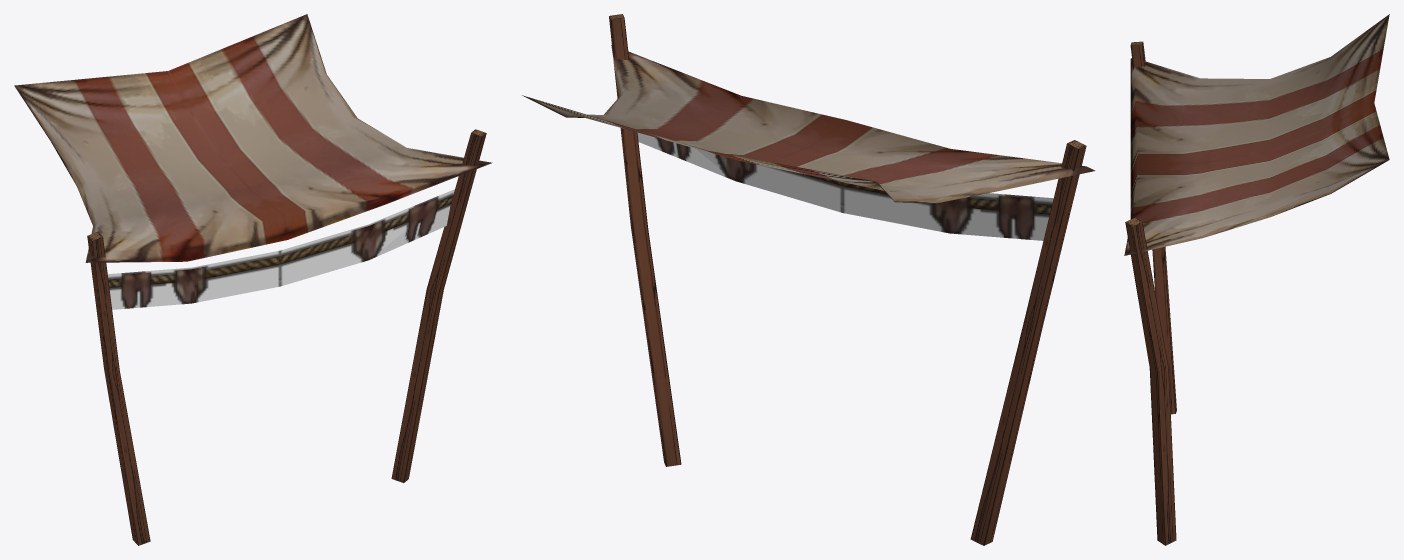
File: 2_CZ_ZhangPeng_01.FBX
3 views of the same model, side by side, from view 1: azimuth 30°, elevation 25°; view 2: azimuth 150°, elevation 25°; view 3: azimuth 270°, elevation 25° (orthographic). The views are drawn at different scales.
Visible parts, largest first — view 1: 2_CZ_ZhangPeng_01; view 2: 2_CZ_ZhangPeng_01; view 3: 2_CZ_ZhangPeng_01.
Part boxes in pixels (x1,y1,x2,y2): 2_CZ_ZhangPeng_01: (14, 14, 492, 545); 2_CZ_ZhangPeng_01: (522, 14, 1095, 545); 2_CZ_ZhangPeng_01: (1124, 14, 1389, 545).
Bounding box in the file's own units: 476 × 430 × 265.
